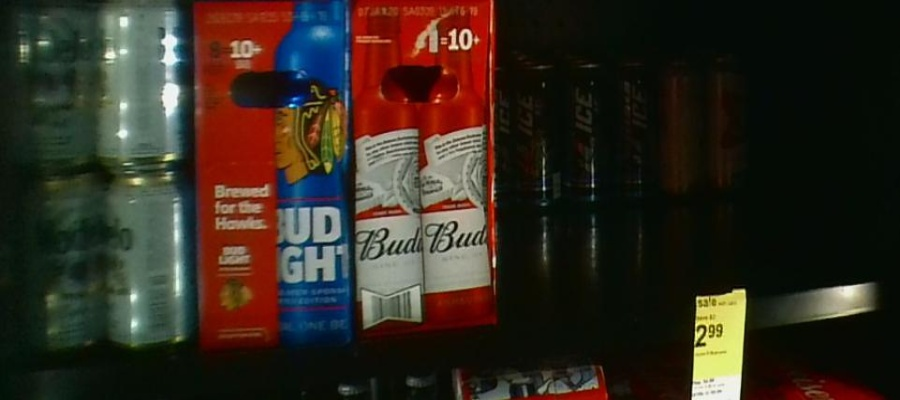bottle: (5, 1, 196, 346), (192, 4, 349, 346), (348, 1, 497, 327), (653, 56, 751, 200), (565, 61, 652, 212), (493, 70, 560, 212)
